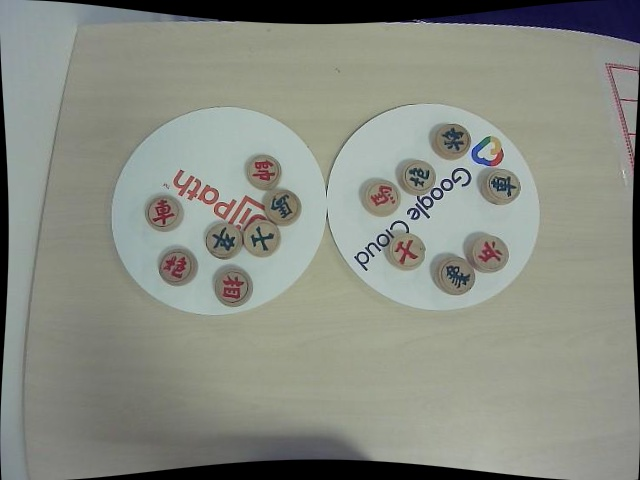Black-Cannon: (405, 162, 434, 191)
Black-Chariot: (487, 172, 520, 199)
Black-Elephant: (442, 262, 475, 292)
Black-General: (438, 125, 467, 155)
Black-Guard: (248, 224, 280, 254)
Black-Horse: (264, 192, 299, 220)
Black-Soldier: (209, 227, 240, 255)
Red-Cannon: (159, 251, 195, 283)
Red-Chariot: (149, 200, 178, 227)
Red-Elephant: (215, 273, 249, 303)
Red-General: (250, 159, 278, 185)
Red-Guard: (391, 237, 424, 268)
Red-Horse: (364, 182, 398, 213)
Red-Soldier: (470, 235, 506, 271)
